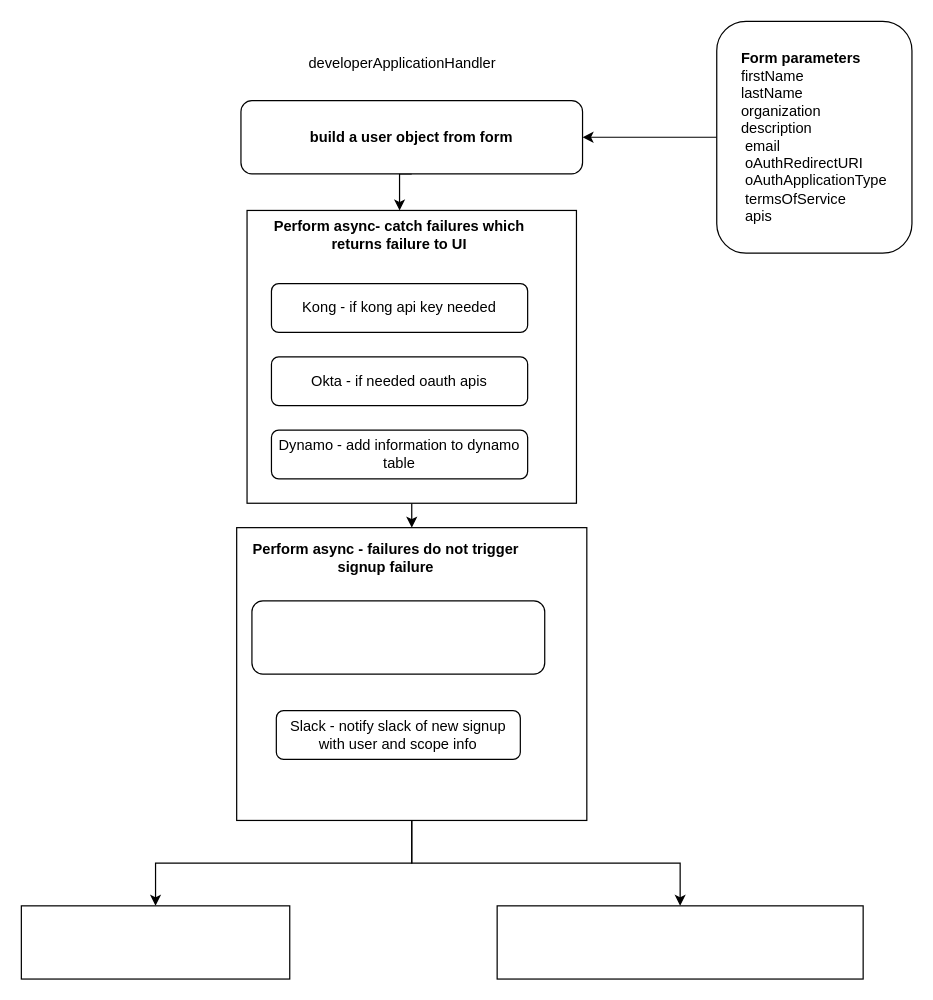
Image size: 933x1000. Some labels were removed from this diagram. Each missing label, with the centre of its shape:
"Error page shown if any failures" belongs at [679,942].
"GovDelivery -send welcome email with credentials" belongs at [398,637].
"Successful - Page with credentials are shown to user" belongs at [155,942].
